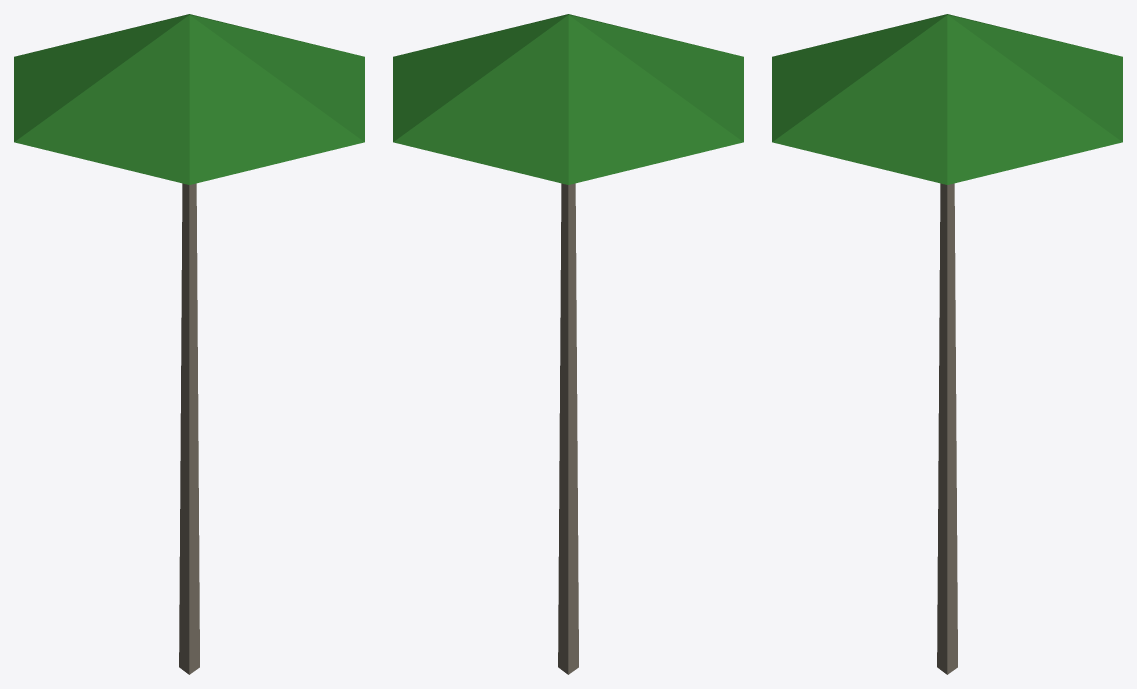
The model's file is tropical_loin.glb.
3 views of the same model, side by side, from view 1: azimuth 30°, elevation 25°; view 2: azimuth 150°, elevation 25°; view 3: azimuth 270°, elevation 25° (orthographic).
Parts seen in each view (by area): view 1: tropical_loin; view 2: tropical_loin; view 3: tropical_loin.
Part boxes in pixels (x1,y1,x2,y2): tropical_loin: (14,14,364,674); tropical_loin: (393,14,743,674); tropical_loin: (772,14,1122,674).
Size of the model in its own units: 13 by 23.2 by 11.26.
1 material, 1 textured.
